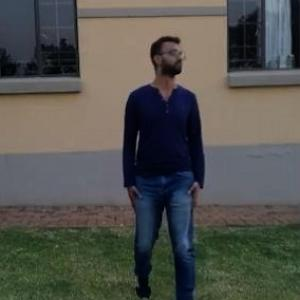follow: (117, 17, 214, 286)
